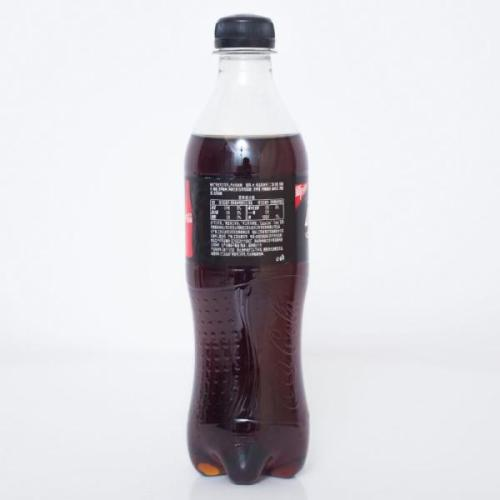coke_zero: (176, 10, 321, 490)
